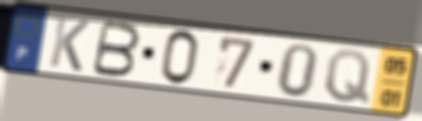0: (275, 43, 320, 99), (159, 28, 202, 86)
7: (218, 35, 256, 90)
B: (89, 18, 144, 79)
K: (46, 14, 92, 74)
Q: (322, 47, 373, 107)
